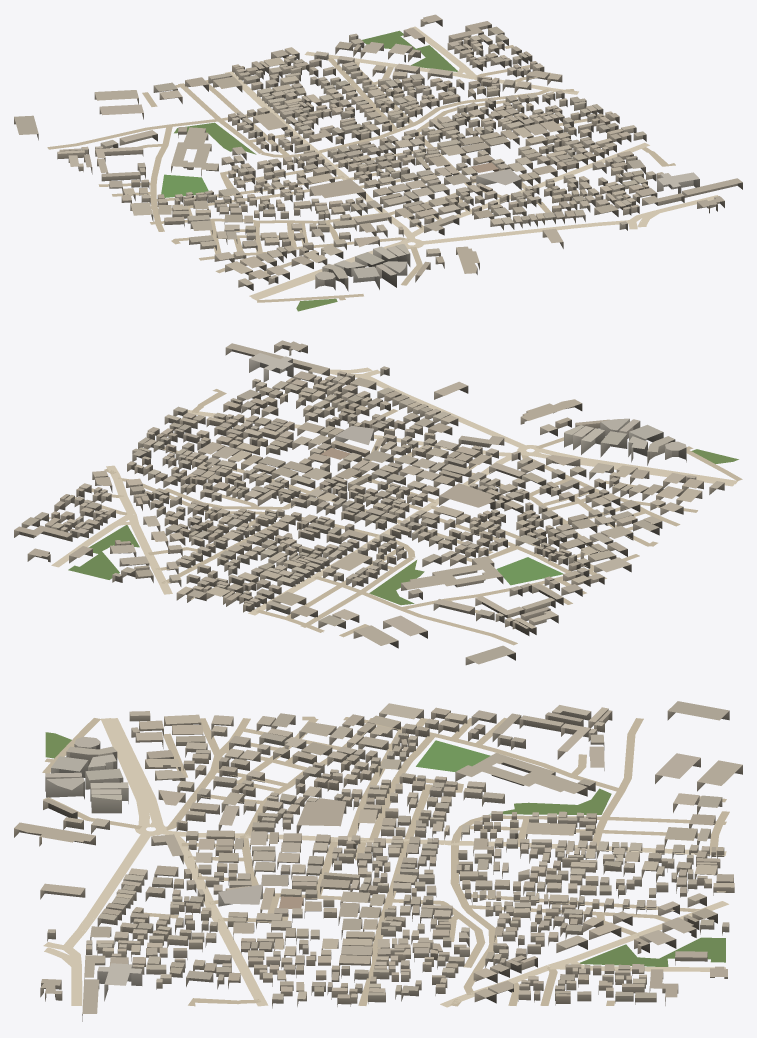
3 views of the same model, one above another, from view 1: azimuth 30°, elevation 25°; view 2: azimuth 150°, elevation 25°; view 3: azimuth 270°, elevation 25° (orthographic). The views are drawn at different scales.
Visible parts, largest first — view 1: building, ground; view 2: building, ground; view 3: building, ground.
Part boxes in pixels (x1,y1,x2,y2): building: (14,14,742,291); ground: (47,26,718,311); building: (14,340,724,665); ground: (49,367,742,645); building: (14,701,742,1021); ground: (42,716,729,1007).
Bounding box in the file's own units: 544 × 15 × 536.
